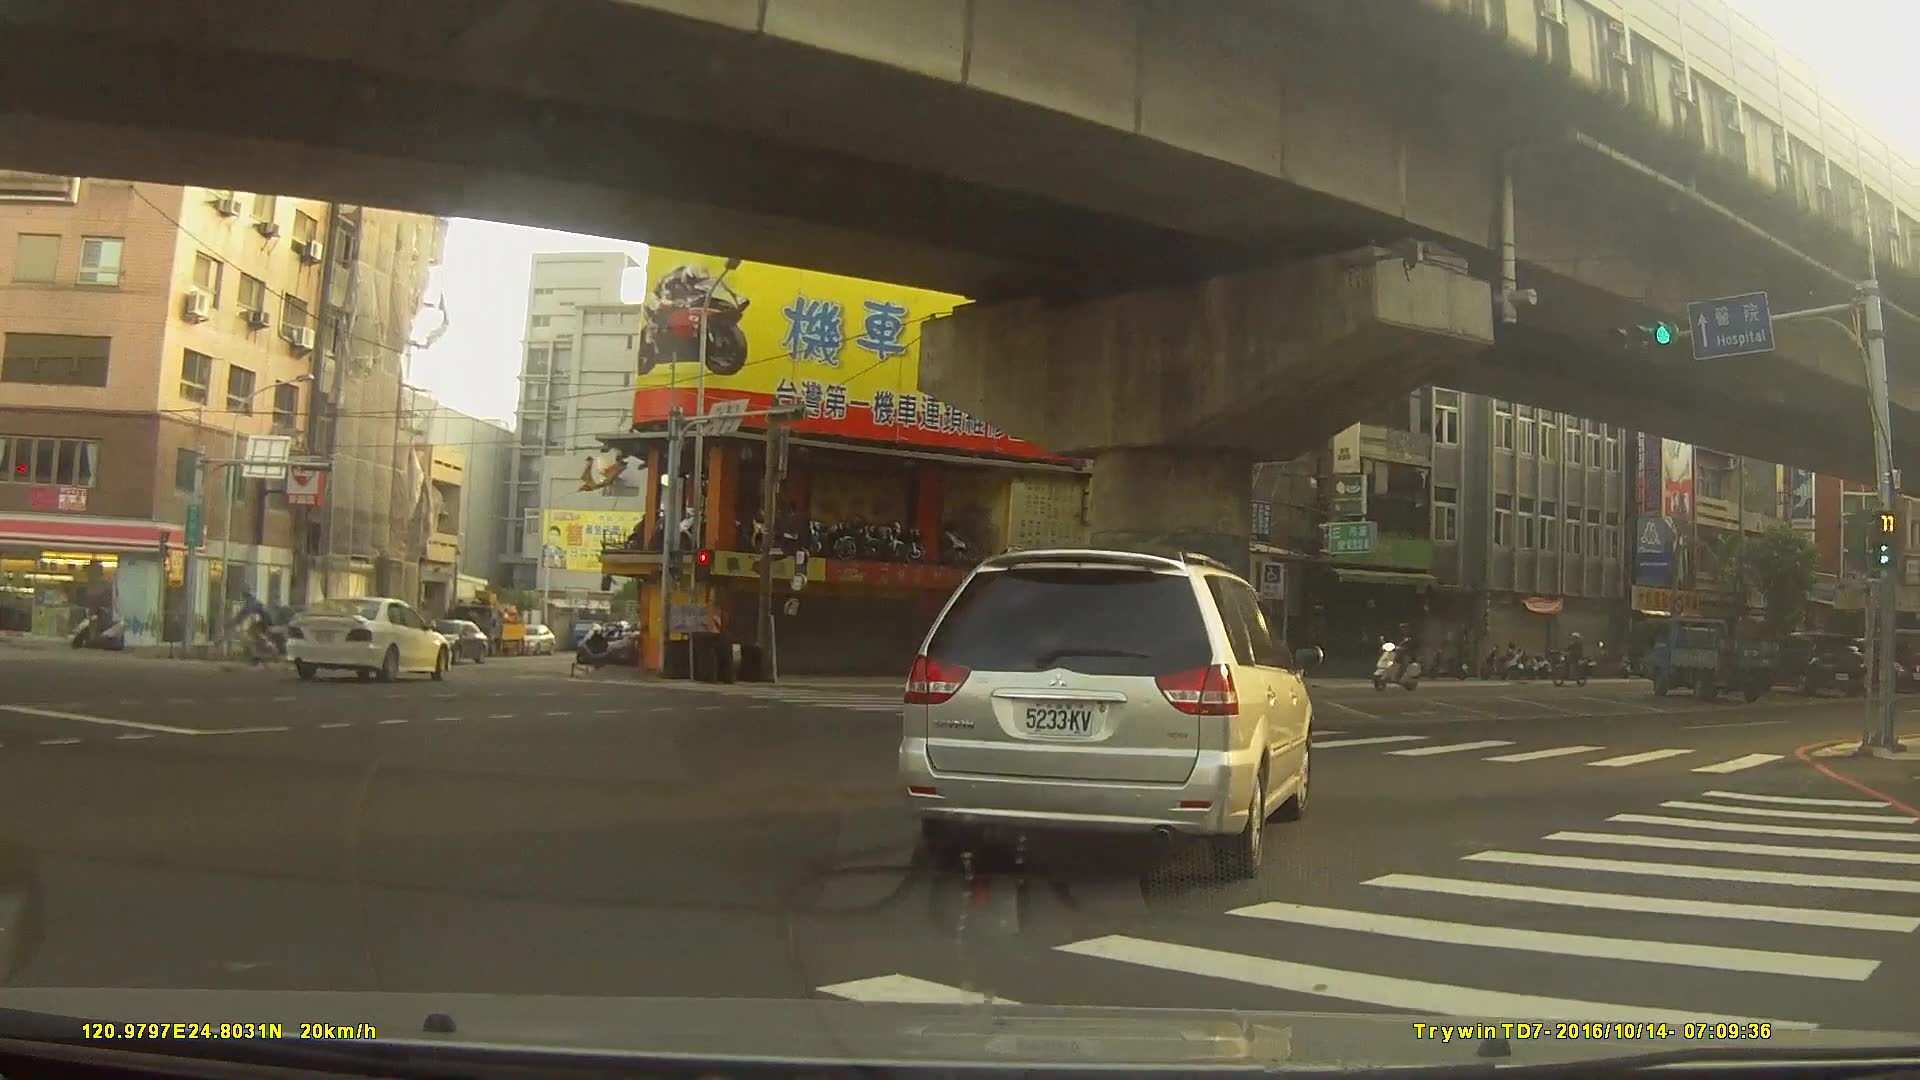rider: (213, 586, 293, 677), (1375, 624, 1425, 691), (1546, 630, 1598, 686)
vehicle: (896, 547, 1315, 873), (285, 596, 454, 683), (1642, 611, 1778, 697), (1758, 627, 1867, 694), (415, 619, 489, 664), (514, 626, 554, 657)
